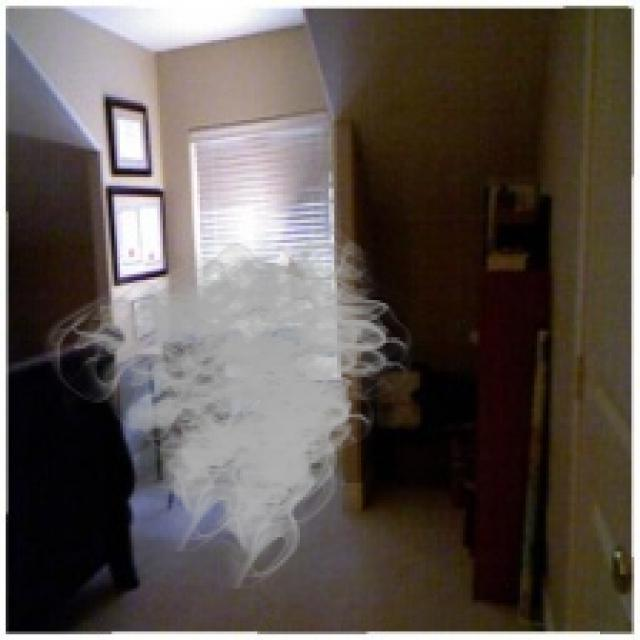Smoke: (40, 217, 423, 589)
